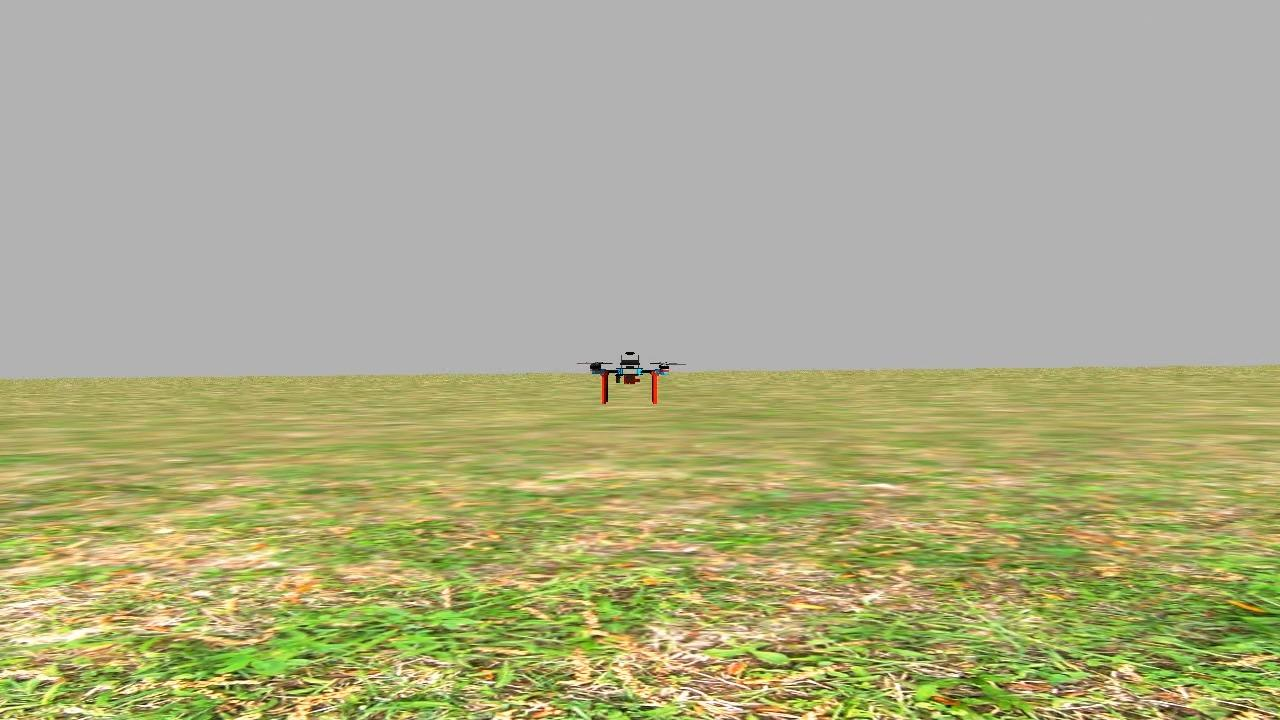UAV: (581, 348, 682, 416)
